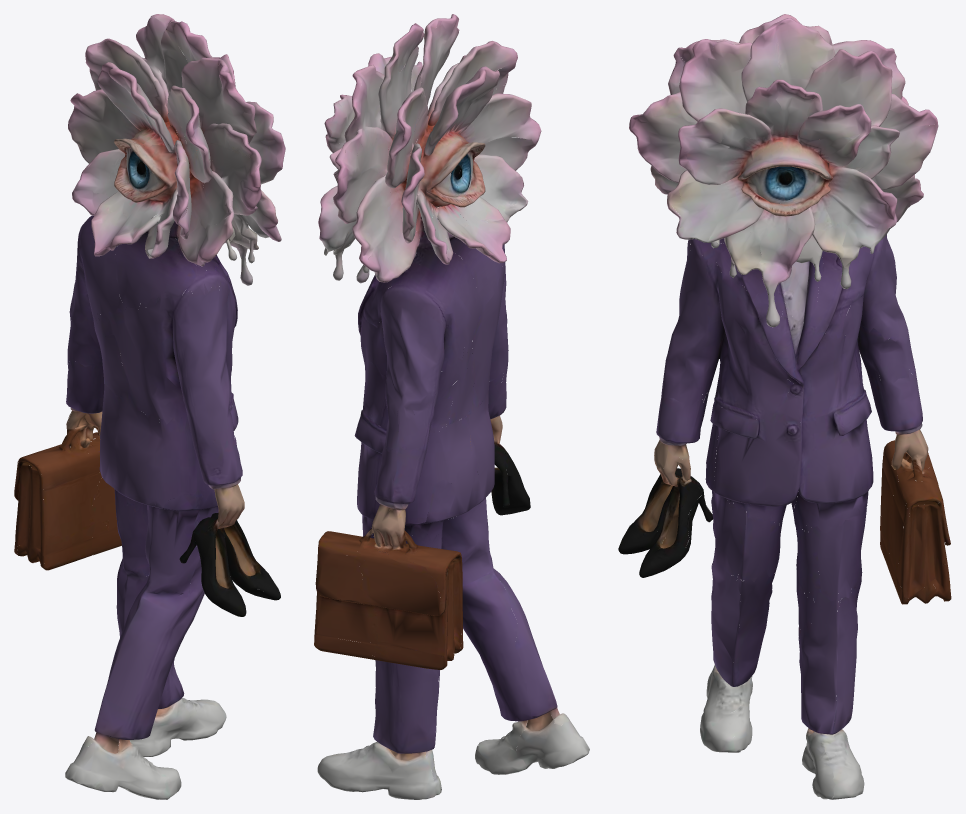
Rendered from npc_workgirl.glb.
3 views of the same model, side by side, from view 1: azimuth 30°, elevation 25°; view 2: azimuth 150°, elevation 25°; view 3: azimuth 270°, elevation 25° (orthographic). The views are drawn at different scales.
Visible parts, largest first — view 1: tripo_node_4dcd1692-ba07-4971-a005-472ad7834de4; view 2: tripo_node_4dcd1692-ba07-4971-a005-472ad7834de4; view 3: tripo_node_4dcd1692-ba07-4971-a005-472ad7834de4.
Part boxes in pixels (left/top/right/bottom): tripo_node_4dcd1692-ba07-4971-a005-472ad7834de4: left=14, top=14, right=285, bottom=799; tripo_node_4dcd1692-ba07-4971-a005-472ad7834de4: left=314, top=14, right=589, bottom=799; tripo_node_4dcd1692-ba07-4971-a005-472ad7834de4: left=618, top=14, right=951, bottom=799.
Size of the model in its own units: 0.2986 by 1 by 0.3984.
1 material, 1 textured.
